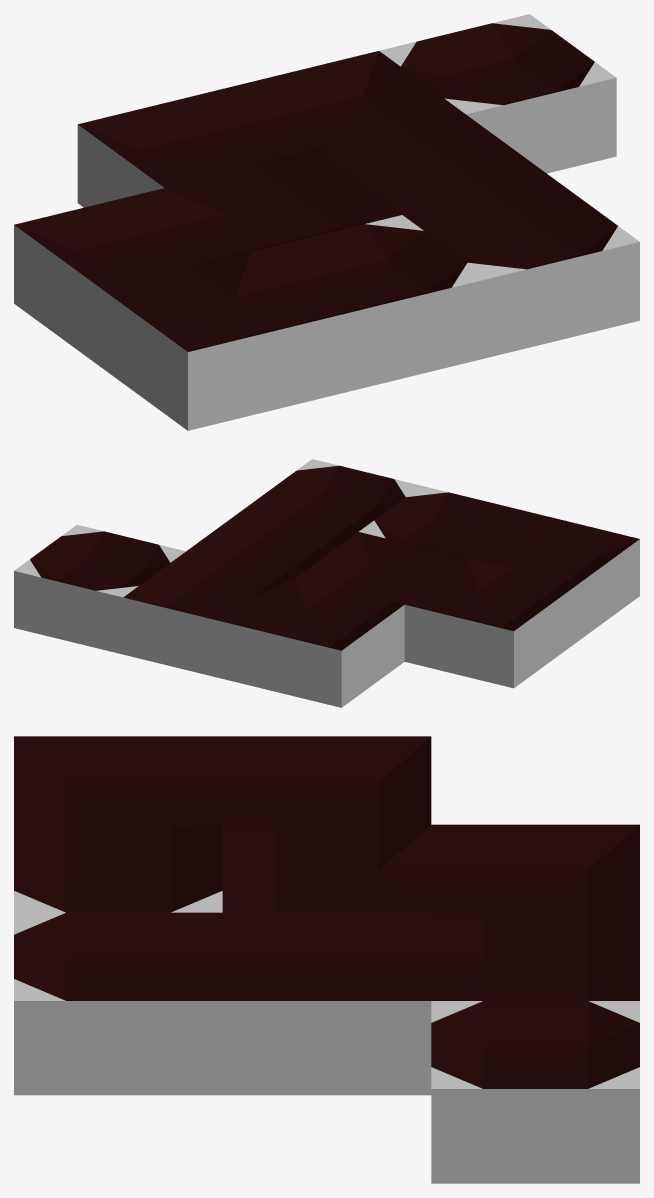
The model's file is 18s_path.obj.
3 renders of one model, top to bottom at view 1: azimuth 30°, elevation 25°; view 2: azimuth 150°, elevation 25°; view 3: azimuth 270°, elevation 25°, orthographic. The views are drawn at different scales.
Parts seen in each view (by area): view 1: corner.0.0_corner.176, ending.1.0_ending.069, ending.2.0_ending.070, hole.3.2_Cube.036, corner.0.1_corner.177, corner.1.2_corner.179, corner.2.2_corner.180, through.2.1_through.032, corner.1.1_corner.178; view 2: corner.0.1_corner.177, corner.1.2_corner.179, hole.3.2_Cube.036, corner.2.2_corner.180, corner.0.0_corner.176, corner.1.1_corner.178, ending.2.0_ending.070, ending.1.0_ending.069, through.2.1_through.032; view 3: through.2.1_through.032, ending.2.0_ending.070, hole.3.2_Cube.036, corner.0.1_corner.177, corner.1.2_corner.179, corner.0.0_corner.176, corner.1.1_corner.178, ending.1.0_ending.069, corner.2.2_corner.180.
Part boxes in pixels (<box>): corner.0.0_corner.176: <box>101,252,338,430</box>; ending.1.0_ending.069: <box>252,215,489,393</box>; ending.2.0_ending.070: <box>403,178,639,357</box>; hole.3.2_Cube.036: <box>379,14,616,173</box>; corner.0.1_corner.177: <box>14,188,250,366</box>; corner.1.2_corner.179: <box>77,87,314,207</box>; corner.2.2_corner.180: <box>228,51,465,161</box>; through.2.1_through.032: <box>316,114,552,225</box>; corner.1.1_corner.178: <box>165,151,401,255</box>; corner.0.1_corner.177: <box>404,559,576,688</box>; corner.1.2_corner.179: <box>232,578,404,707</box>; hole.3.2_Cube.036: <box>14,524,185,654</box>; corner.2.2_corner.180: <box>123,551,295,680</box>; corner.0.0_corner.176: <box>468,512,639,641</box>; corner.1.1_corner.178: <box>296,532,467,612</box>; ending.2.0_ending.070: <box>249,459,420,539</box>; ending.1.0_ending.069: <box>359,485,530,561</box>; through.2.1_through.032: <box>186,505,357,585</box>; through.2.1_through.032: <box>222,912,431,1095</box>; ending.2.0_ending.070: <box>14,912,222,1095</box>; hole.3.2_Cube.036: <box>431,1001,639,1183</box>; corner.0.1_corner.177: <box>222,736,431,848</box>; corner.1.2_corner.179: <box>431,824,639,936</box>; corner.0.0_corner.176: <box>14,736,222,848</box>; corner.1.1_corner.178: <box>222,825,431,912</box>; ending.1.0_ending.069: <box>14,824,222,912</box>; corner.2.2_corner.180: <box>431,913,639,1000</box>.
Size of the model in its own units: 8 by 1 by 6.
